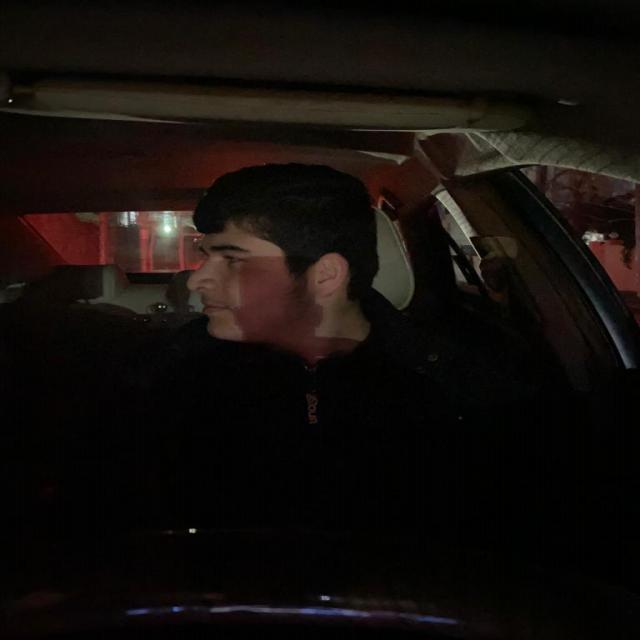LeftRight: (176, 155, 400, 361)
